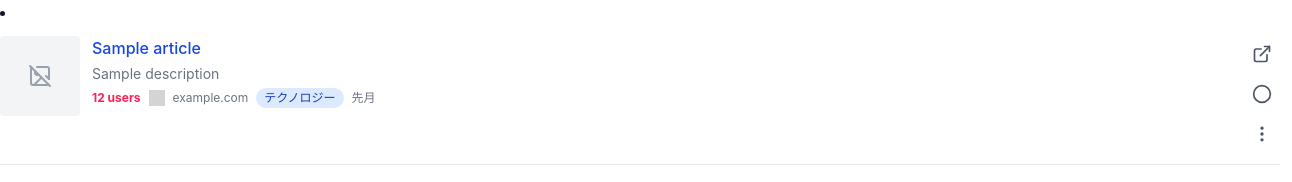
it: read toggle › marks the entry read, then unread again
Click the button named "既読にする".
click(1262, 94)  # box [1244, 76, 1280, 112]
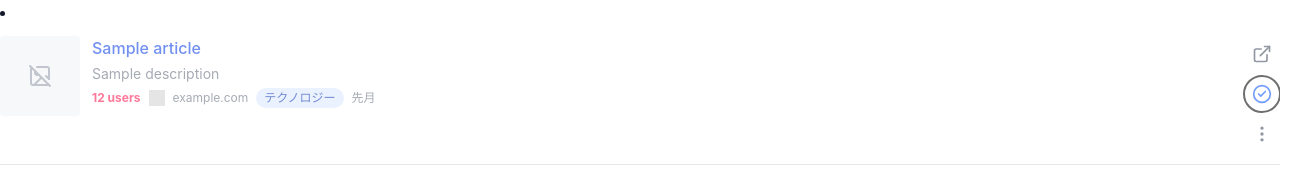
Now the button named "未読に戻す" is shown
Click the button named "未読に戻す".
click(1262, 94)  # box [1244, 76, 1280, 112]
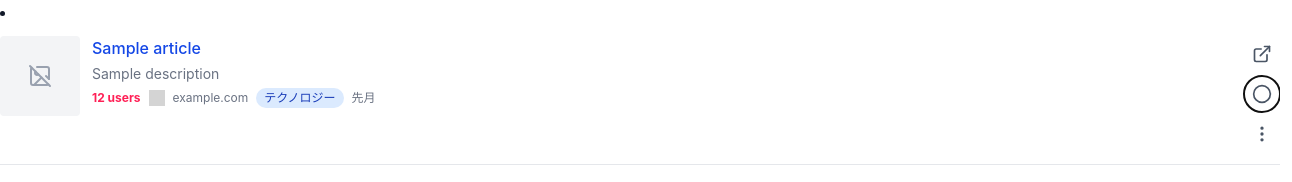
Now the button named "既読にする" is shown, box [1244, 76, 1280, 112]
